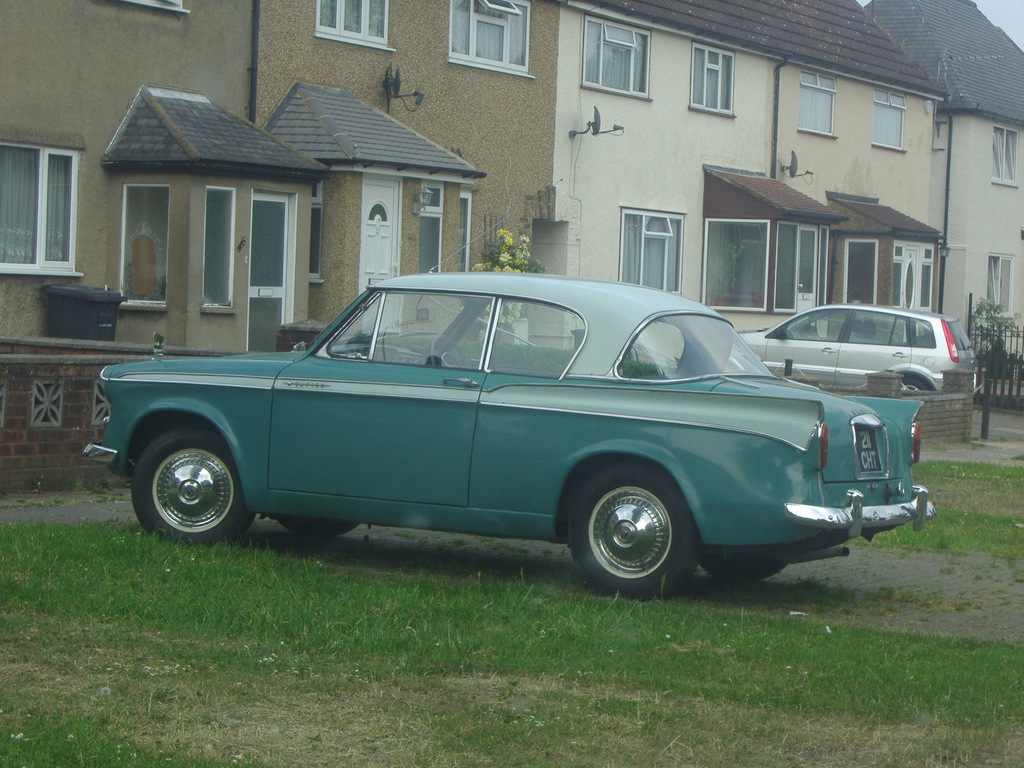Car: (81, 178, 936, 600), (736, 303, 975, 394)
